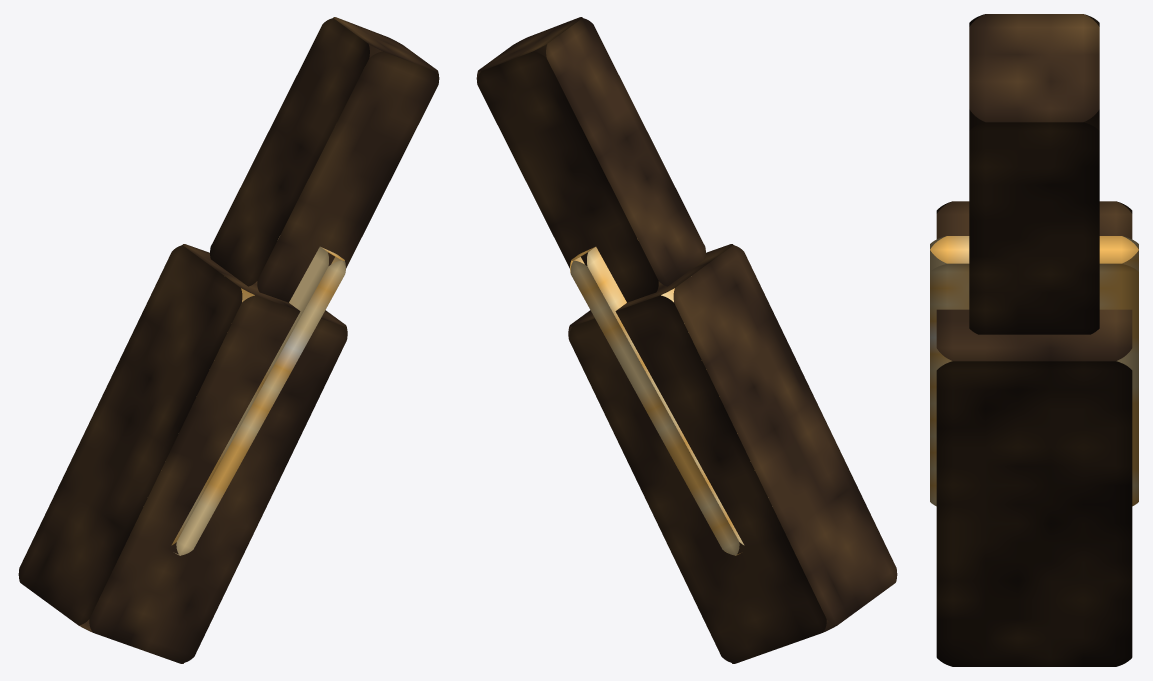
The model's file is minotaurs_horn.obj.
3 renders of one model, left to right at view 1: azimuth 30°, elevation 25°; view 2: azimuth 150°, elevation 25°; view 3: azimuth 270°, elevation 25°, orthographic. The views are drawn at different scales.
Visible parts, largest first — view 1: lit, fire; view 2: lit, fire; view 3: lit, fire.
Boxes of the visible parts, <box> form: lit: <box>18,17,439,663</box>; fire: <box>171,236,345,555</box>; lit: <box>476,17,897,663</box>; fire: <box>570,246,744,555</box>; lit: <box>936,14,1132,666</box>; fire: <box>930,236,1138,506</box>.
Bounding box in the file's own units: 0.5741 × 0.8314 × 0.2.
